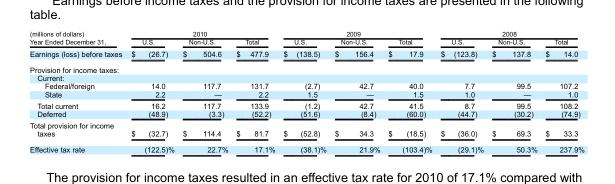table: (29, 29, 583, 152)
table column: (29, 29, 125, 152), (177, 29, 231, 152), (329, 29, 383, 152), (487, 29, 540, 152), (125, 29, 177, 152), (383, 29, 435, 152), (435, 29, 487, 152), (278, 29, 329, 152), (231, 29, 278, 152), (540, 29, 583, 152)
table column header: (29, 29, 583, 47)
table projected row header: (29, 61, 583, 73), (29, 73, 583, 81)
table row: (29, 119, 583, 140), (29, 47, 583, 61), (29, 61, 583, 73), (29, 140, 583, 152), (29, 37, 583, 47), (29, 89, 583, 99), (29, 99, 583, 109), (29, 109, 583, 119), (29, 29, 583, 37), (29, 73, 583, 81), (29, 81, 583, 89)
table spanning cell: (29, 29, 125, 47), (278, 29, 435, 37), (125, 29, 278, 37), (435, 29, 583, 37)
